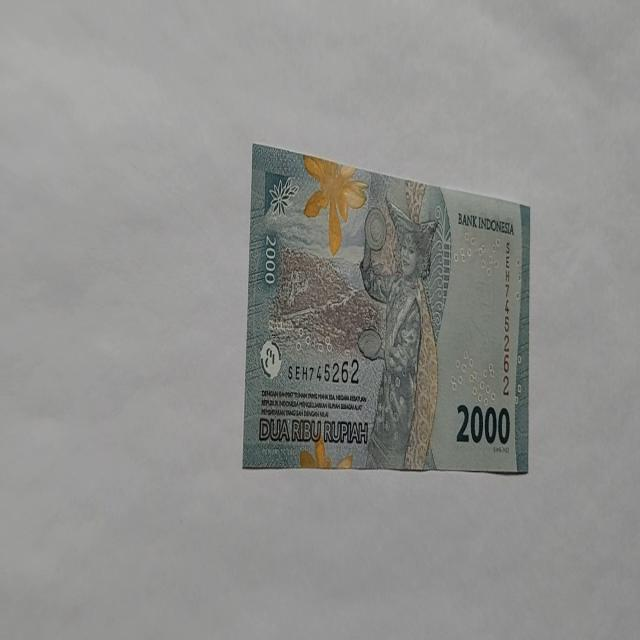dua ribu rupiah: (242, 145, 531, 474), (358, 196, 440, 469), (302, 153, 368, 256)
